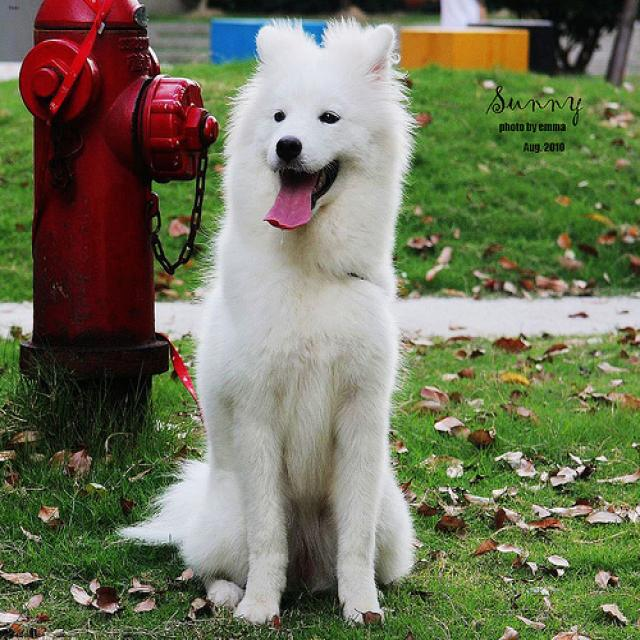dog-samoyed: (102, 7, 426, 637)
